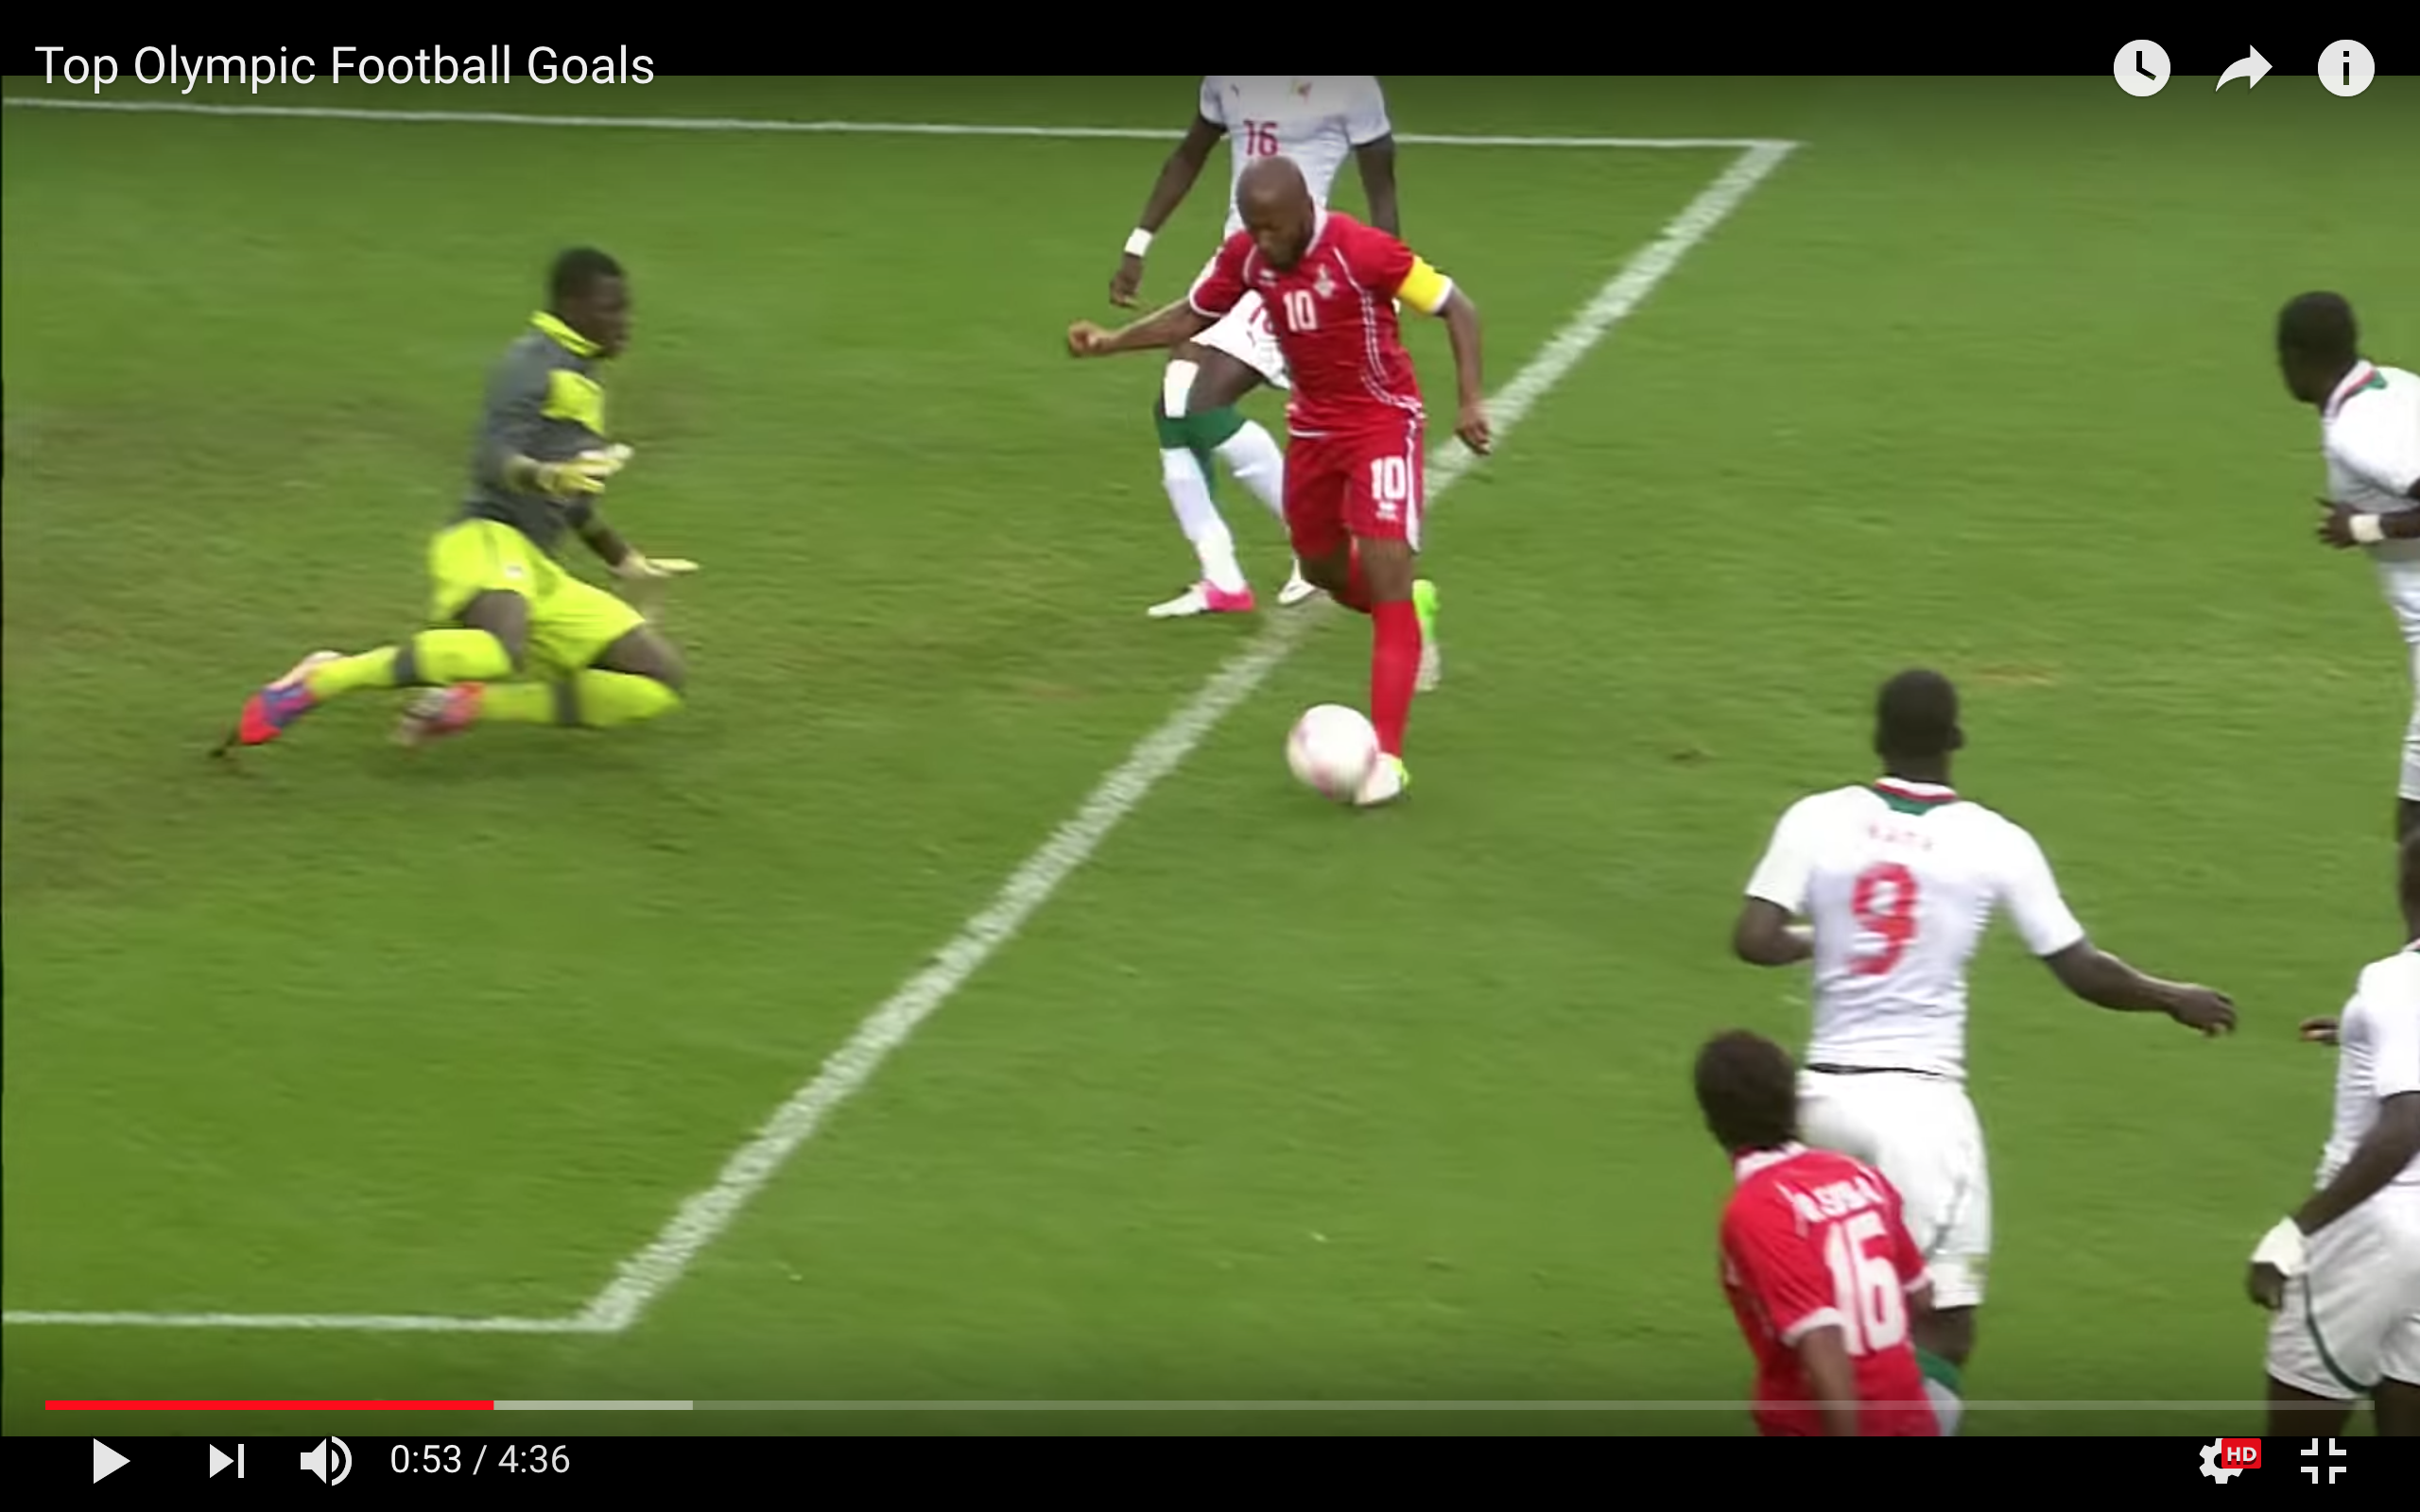soccer player: (1729, 656, 2266, 1412), (1065, 161, 1514, 830), (199, 221, 717, 783), (1666, 1008, 1967, 1427), (2243, 832, 2420, 1409), (2245, 255, 2420, 819)
soccerball: (1277, 694, 1390, 812)
